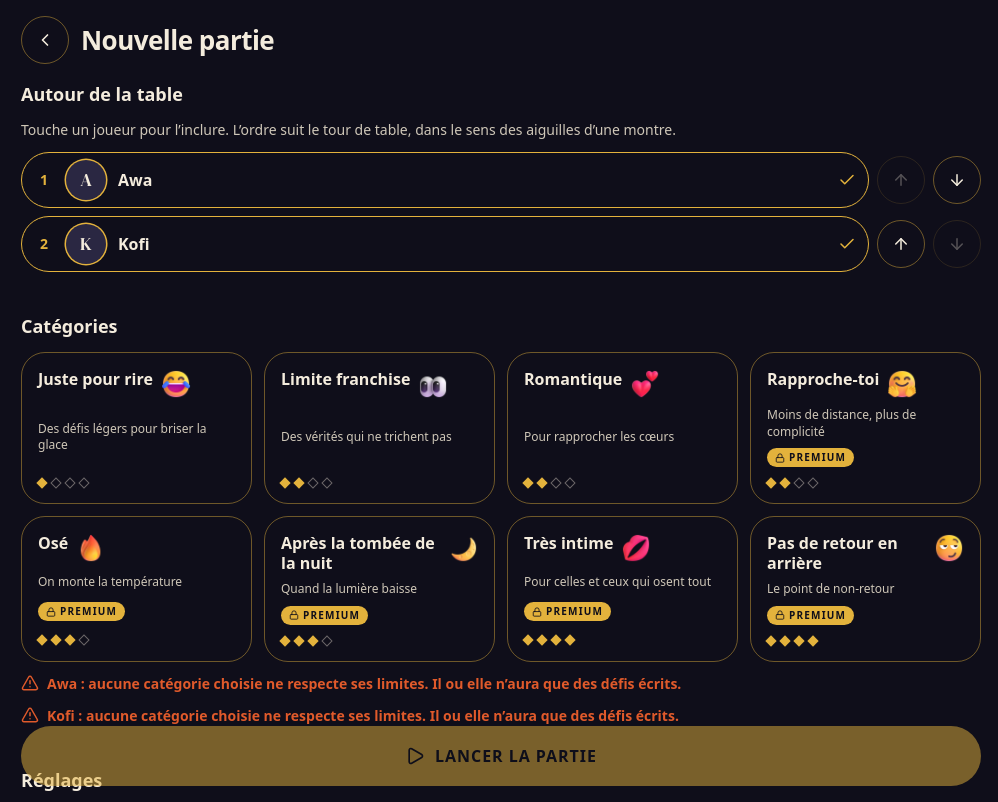
Test case: launch is disabled until a category is chosen
Expected: the button "Lancer la partie" is disabled, [21,726,981,786]
Click the button "Juste pour rire Des défis légers pour briser la glace" at (136, 428), box [21,352,252,504]
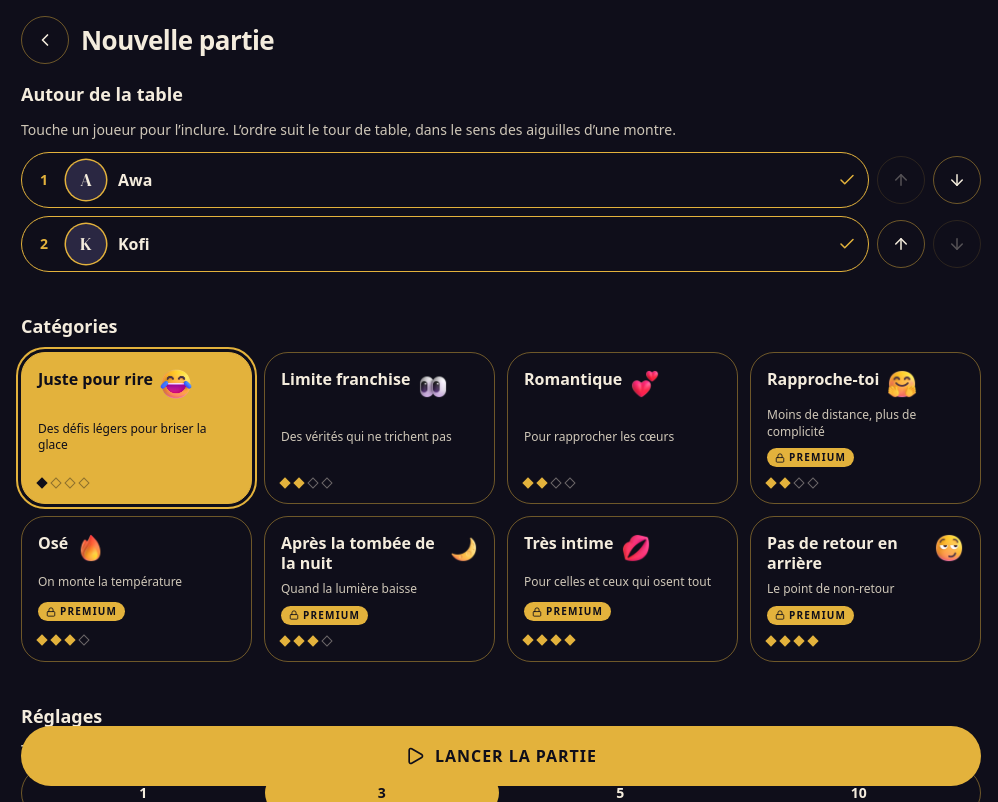
Result: the button "Lancer la partie" is enabled at [21,726,981,786]
